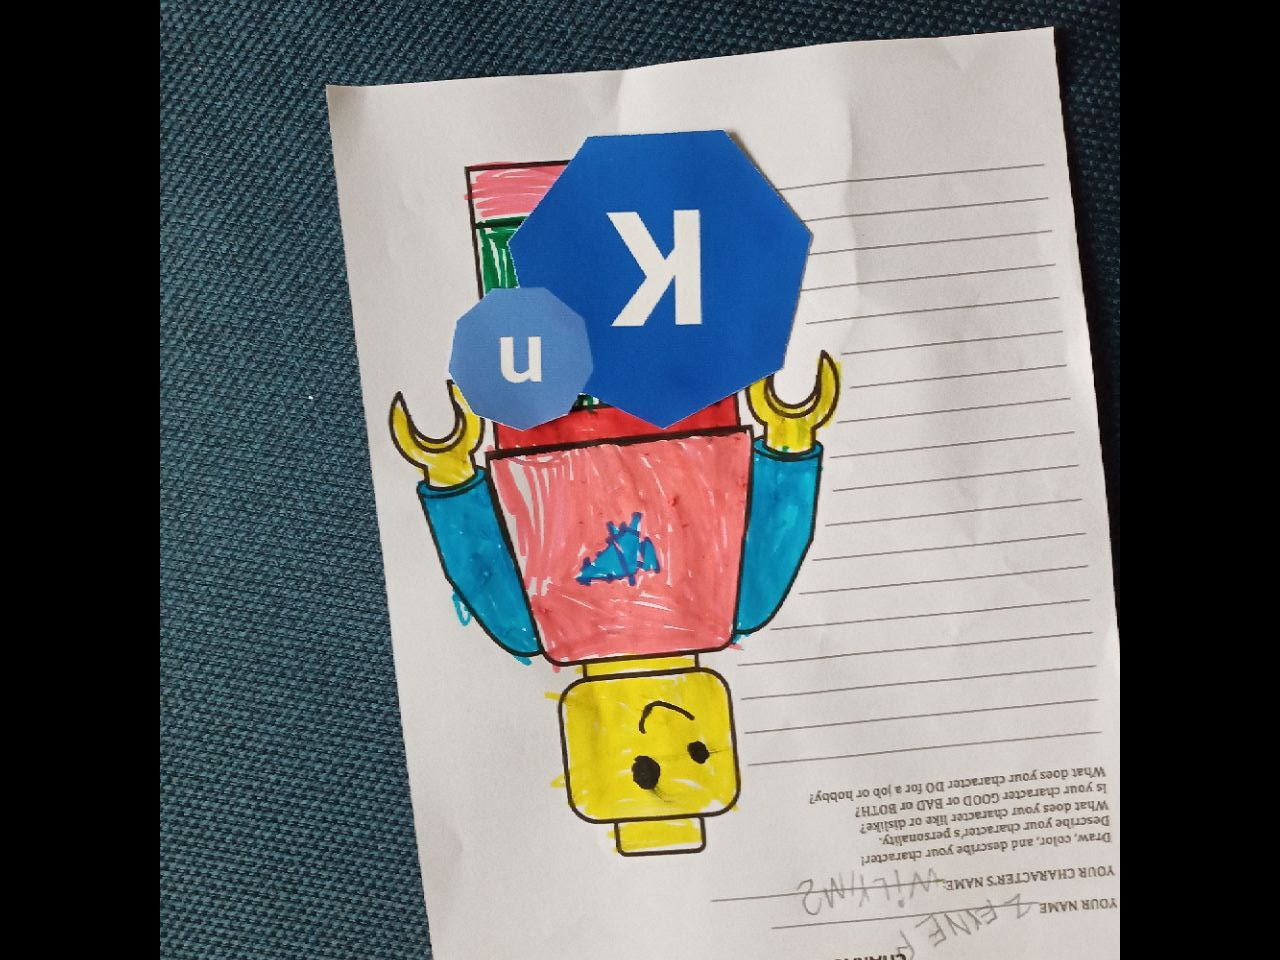knative: (445, 129, 813, 430)
